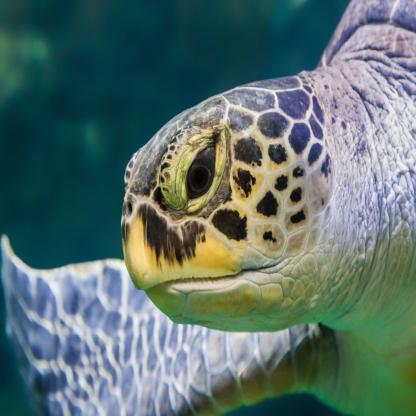turtle: (114, 67, 345, 339)
